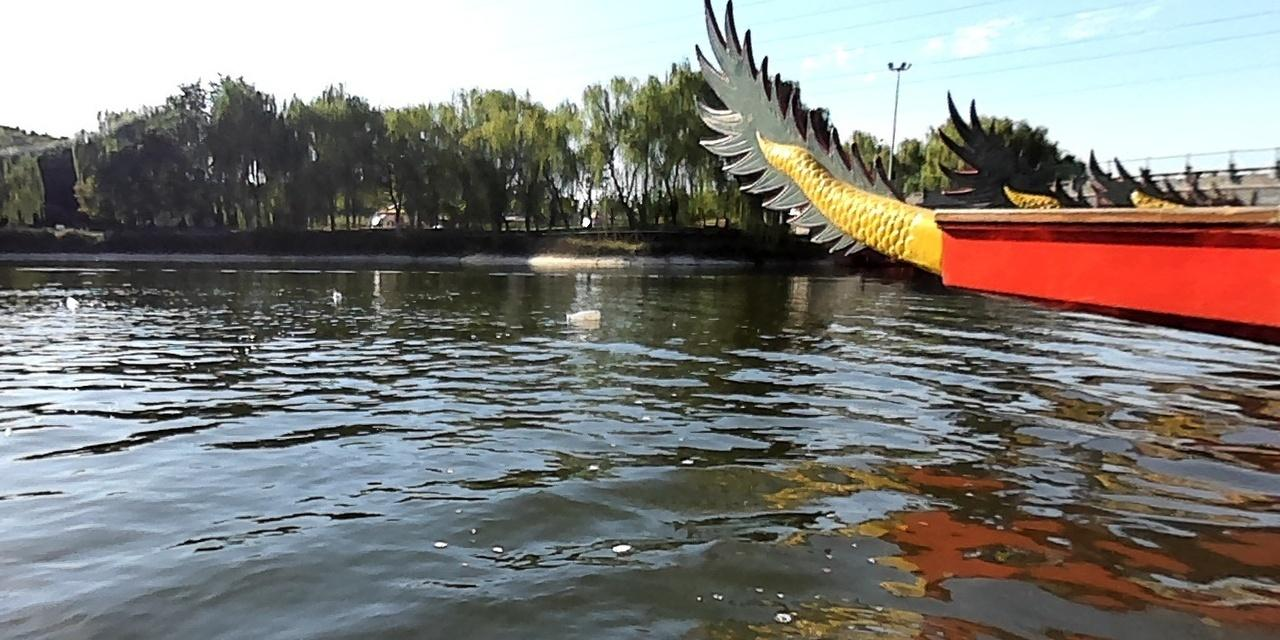bottle: (564, 309, 597, 323)
